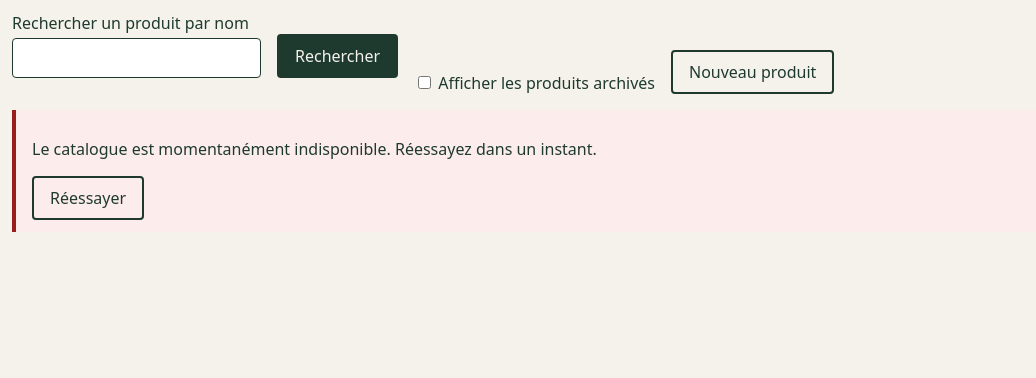
Test: ProductList › affiche l’erreur avec un bouton Réessayer qui relance la requête
expect the message shows "momentanément indisponible": met, box [32, 138, 597, 160]
Click the button "Réessayer" at (88, 198), box [32, 176, 144, 220]
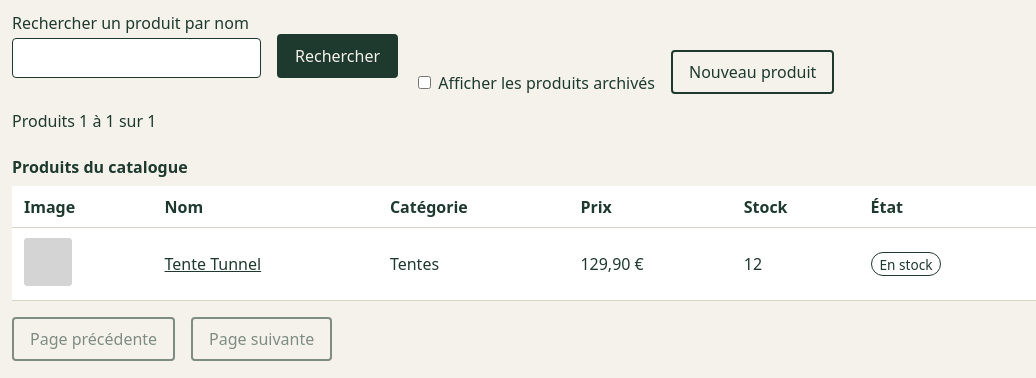
expect the table is shown: met, box [12, 148, 1035, 301]
